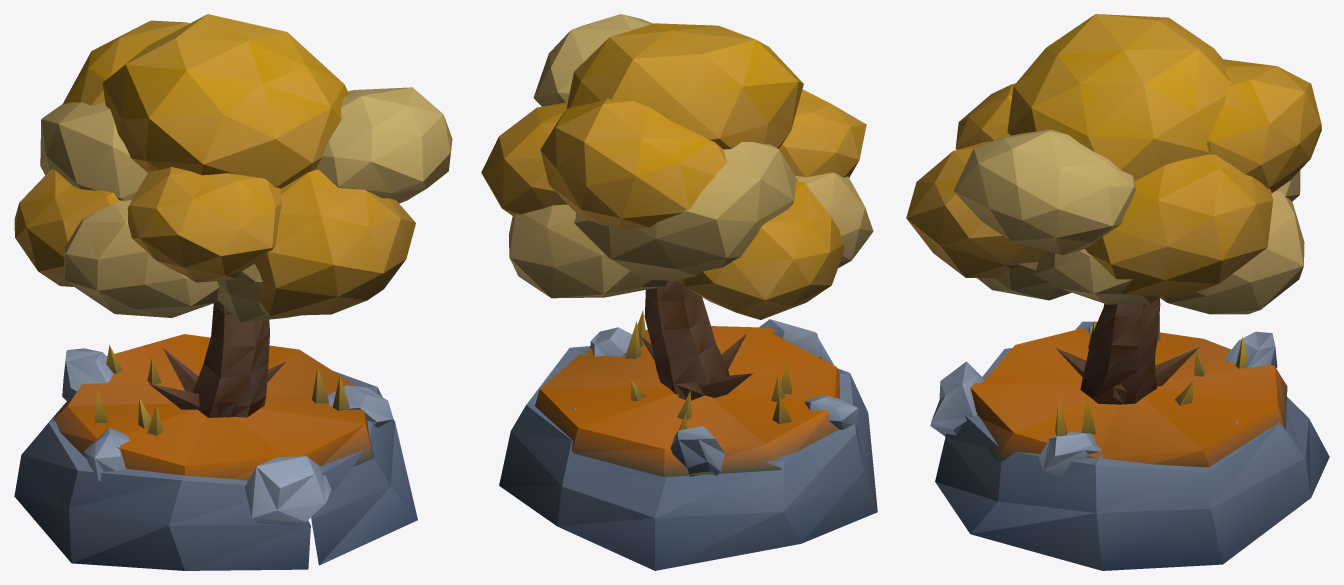
The model's file is pohon_oak_autumn_532992.glb.
3 renders of one model, left to right at view 1: azimuth 30°, elevation 25°; view 2: azimuth 150°, elevation 25°; view 3: azimuth 270°, elevation 25°, orthographic. The views are drawn at different scales.
Visible parts, largest first — view 1: Dedaunan_Kanopi, Pulau_Batu_Tepi_Sungai, Batang_Dan_Akar; view 2: Dedaunan_Kanopi, Pulau_Batu_Tepi_Sungai, Batang_Dan_Akar; view 3: Dedaunan_Kanopi, Pulau_Batu_Tepi_Sungai, Batang_Dan_Akar.
Boxes of the visible parts, x1,y1,x2,y2 form: Dedaunan_Kanopi: (14,14,452,322); Pulau_Batu_Tepi_Sungai: (14,334,417,570); Batang_Dan_Akar: (148,301,285,417); Dedaunan_Kanopi: (481,14,873,319); Pulau_Batu_Tepi_Sungai: (499,310,877,570); Batang_Dan_Akar: (640,280,752,400); Dedaunan_Kanopi: (906,14,1321,314); Pulau_Batu_Tepi_Sungai: (930,316,1329,570); Batang_Dan_Akar: (1056,297,1199,404).
Size of the model in its own units: 5.36 by 6.76 by 5.66.
